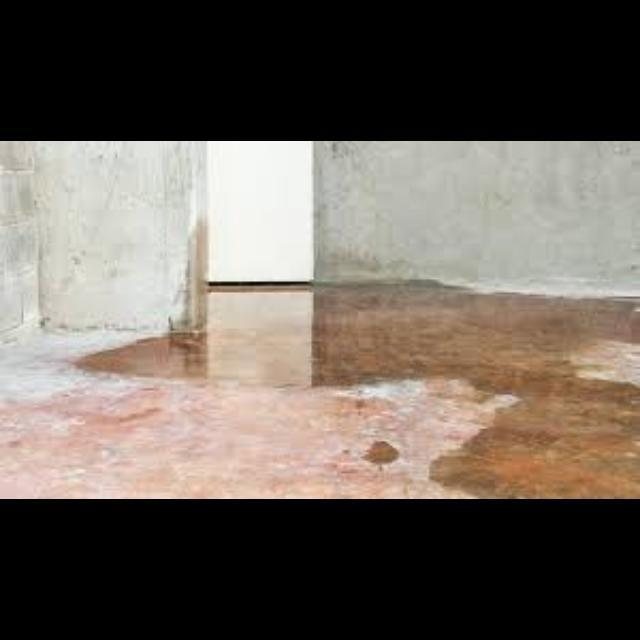water accumulation: (76, 287, 640, 499)
